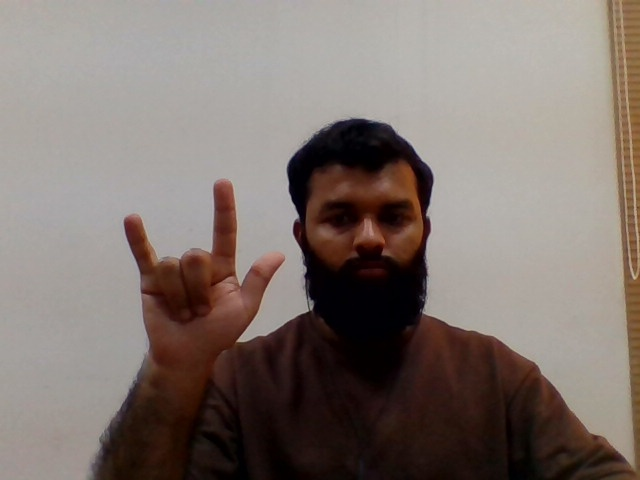I Love you: (113, 175, 290, 374)
